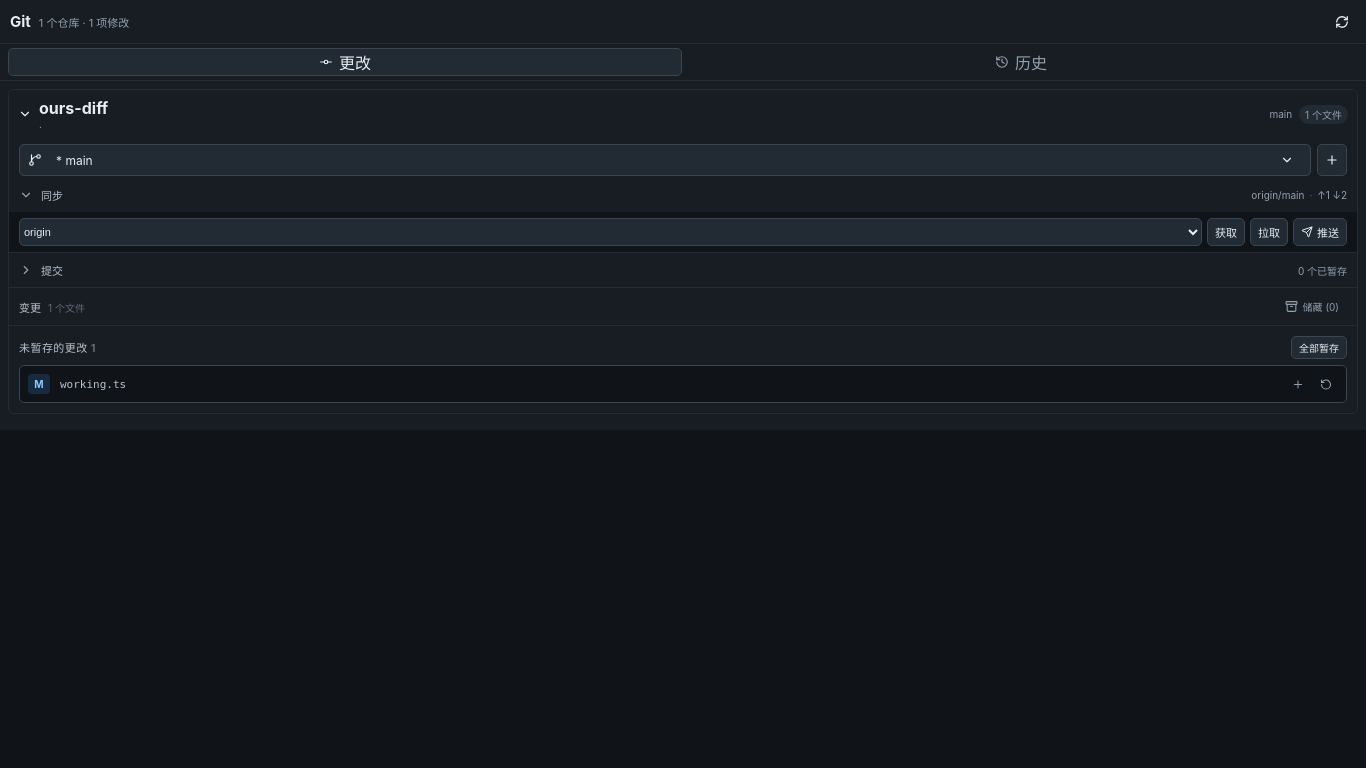
Test: GitStatusPanel › labels the ours comparison base in the preview and search selector
Click the button "M working.ts": (93, 384) [28,374,1282,394]
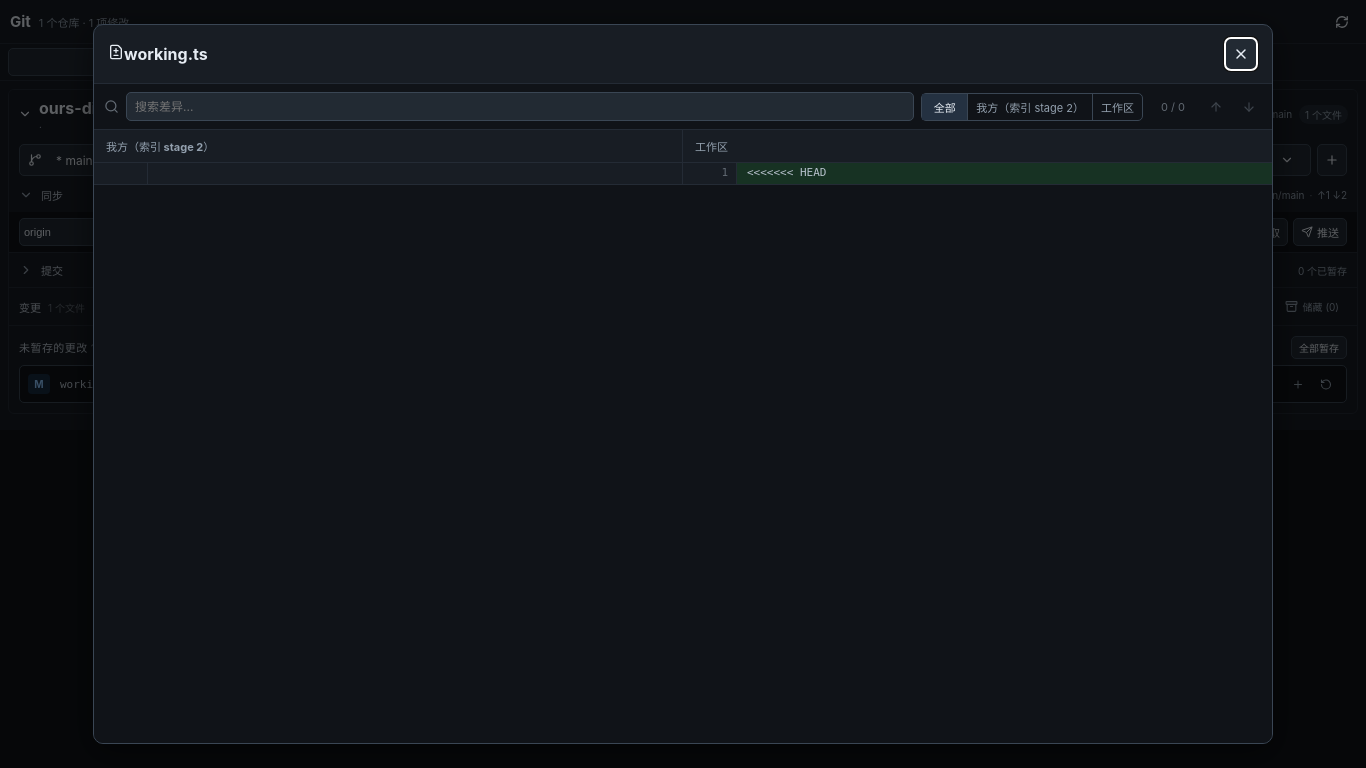
Now the column heading "我方（索引 stage 2）" is shown, box [94,130,683,163]
Now the button "我方（索引 stage 2）" is shown, box [968,94,1093,120]
